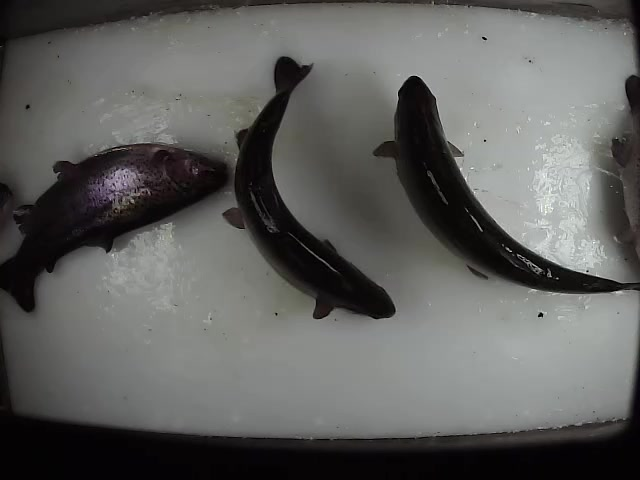fish: (371, 72, 639, 299), (221, 53, 398, 321), (3, 138, 230, 317)
